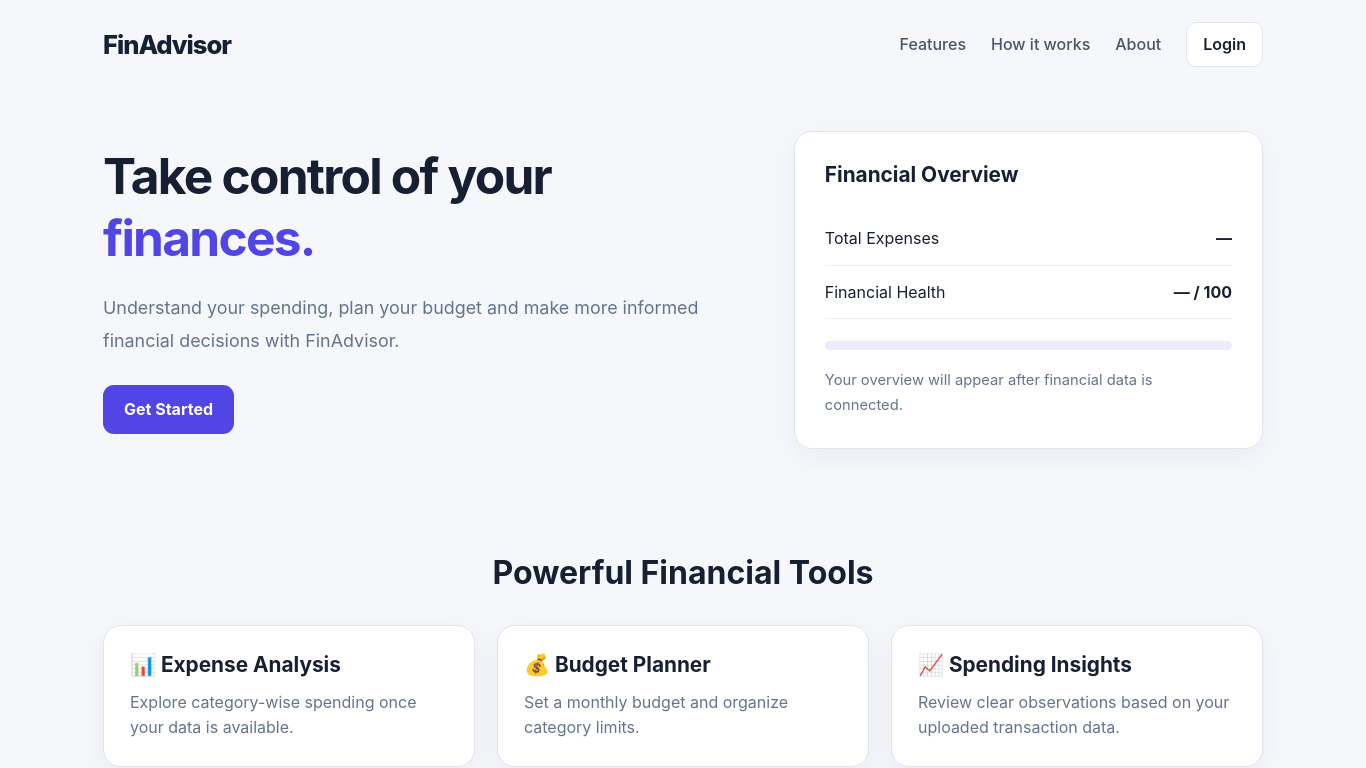
it: FinAdvisor app shell › shows dashboard empty states before a CSV is uploaded
This screenshot has width=1366, height=768.
Click the button "Get Started": (168, 409) [103,385,234,434]
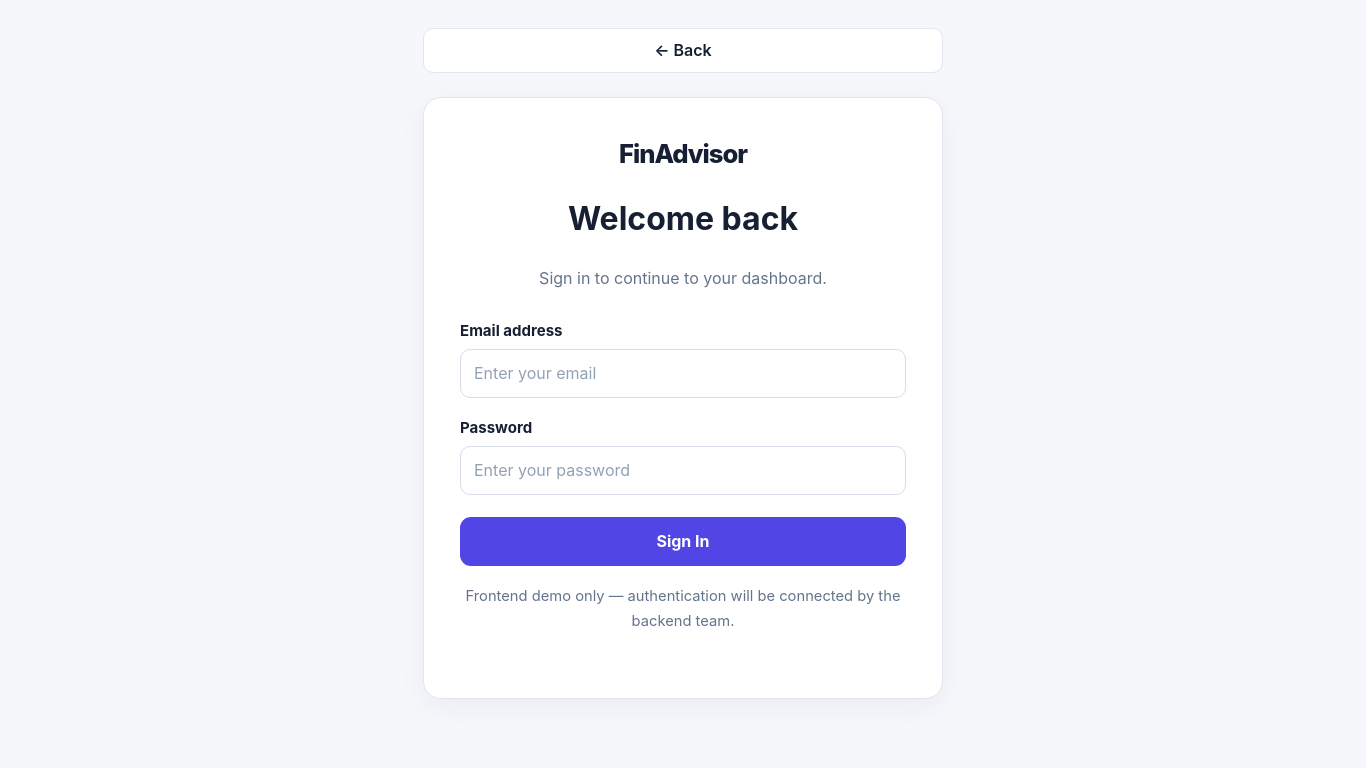
In the field with placeholder "Enter your email": (683, 374) [460,349,906,398], type "demo@example.com"
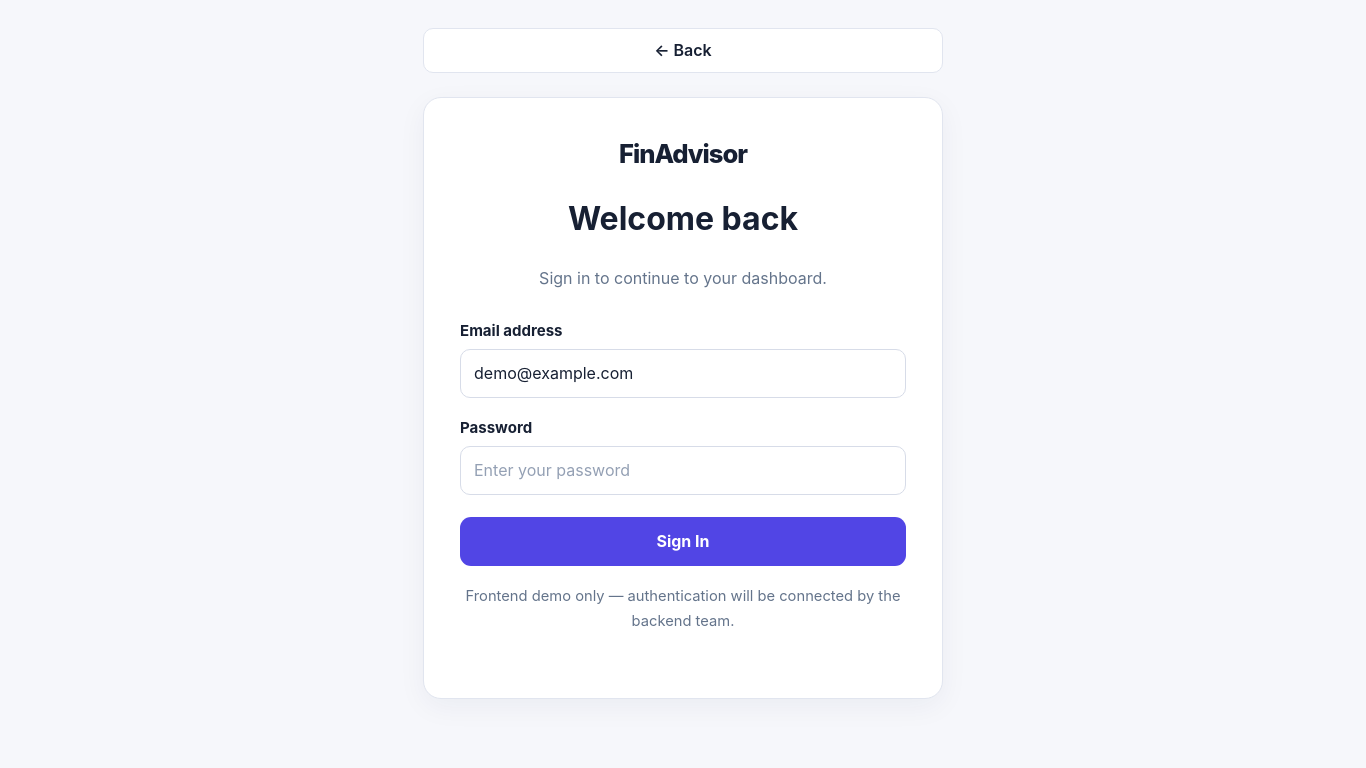
In the password field with placeholder "Enter your password": (683, 471) [460,446,906,495], type "demo-password"
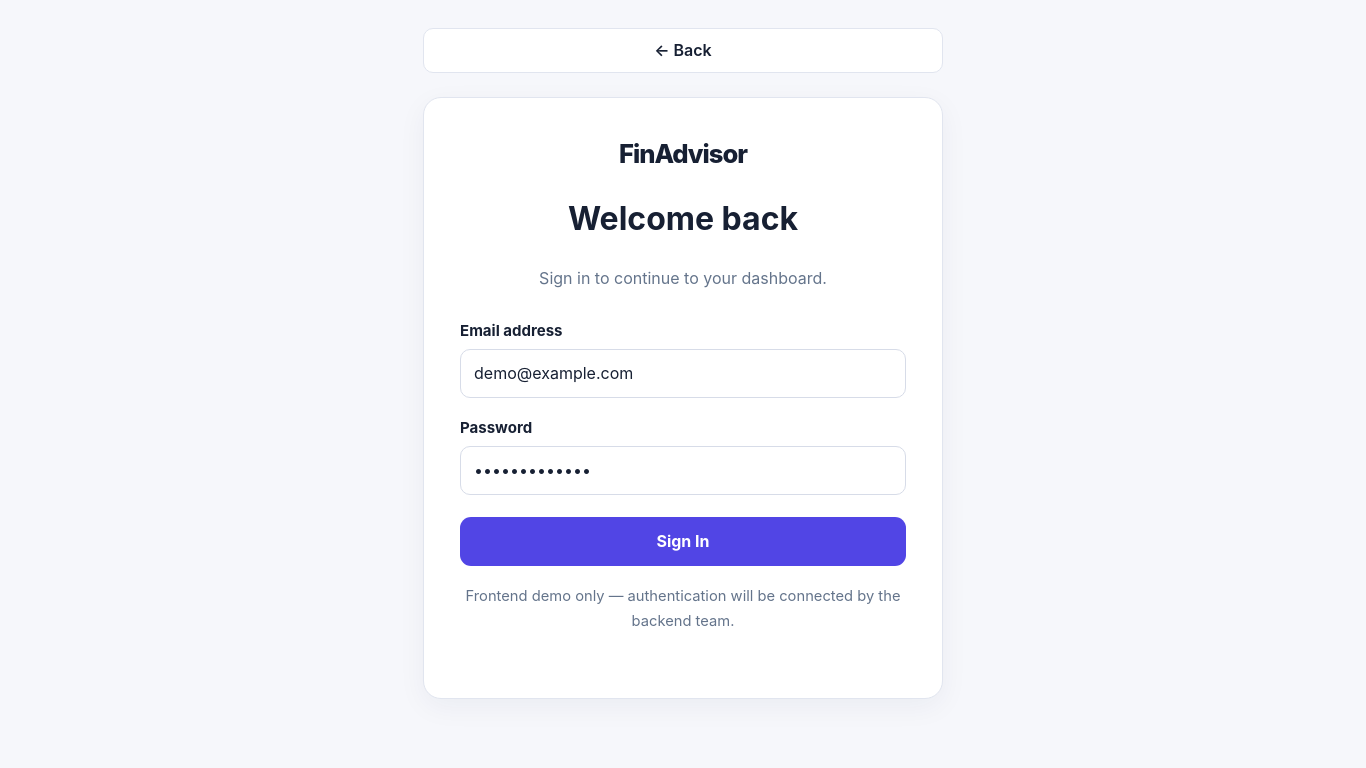
Click the button "Sign In": (683, 541) [460,517,906,566]
(page scrolled)
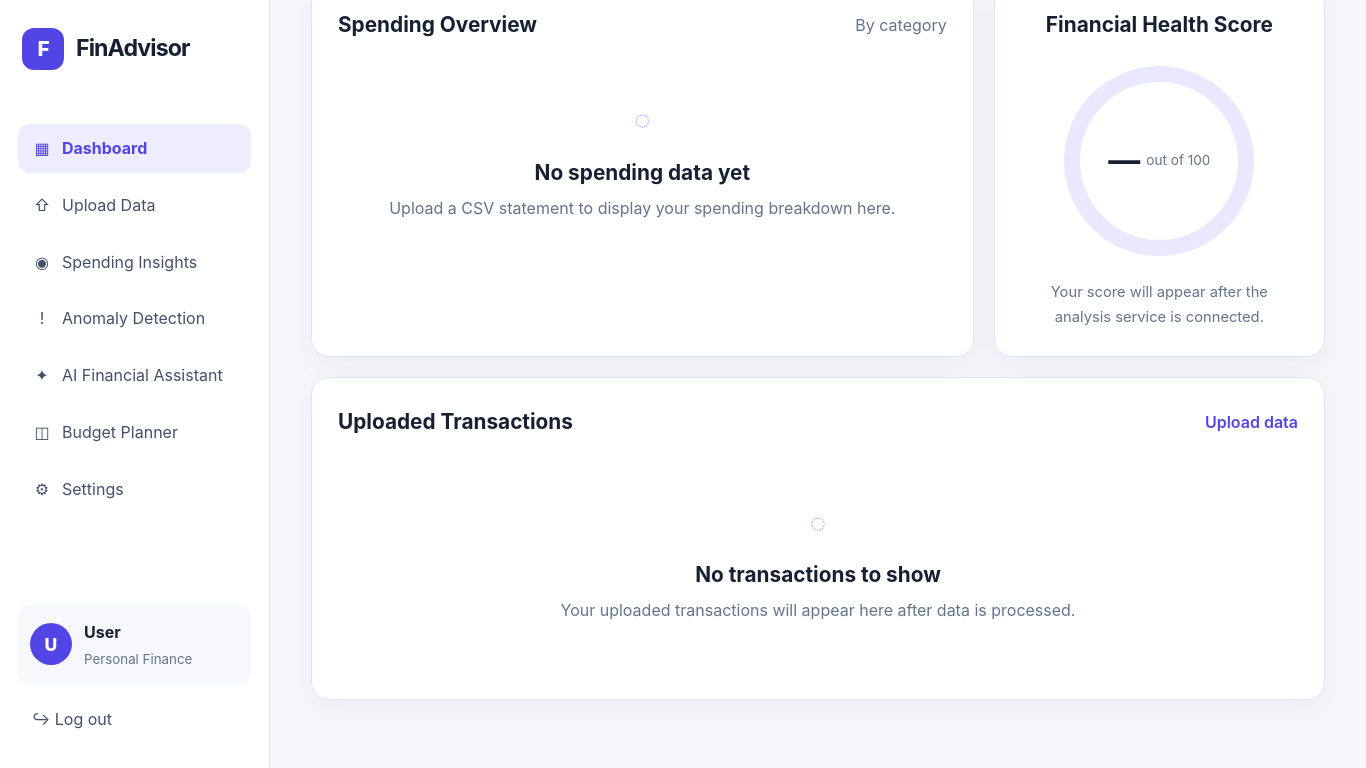
Result: the heading "No spending data yet" is shown at [535,160,750,186]
Result: the heading "No transactions to show" is shown at [695,562,941,588]
